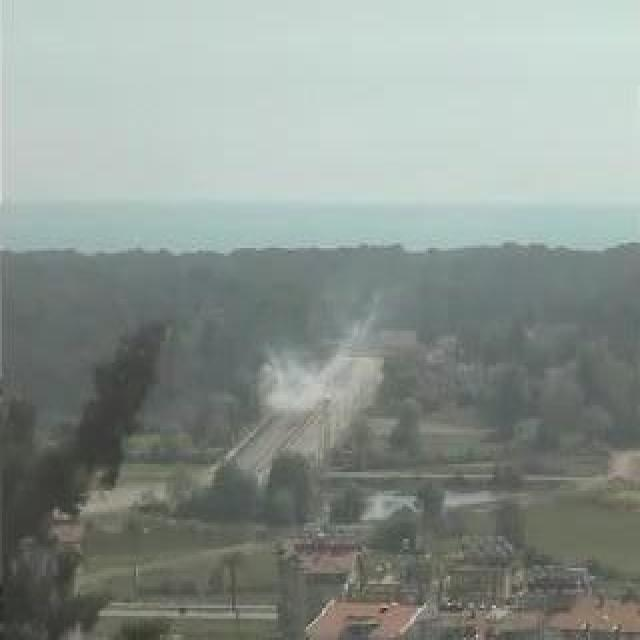Smoke: (255, 331, 355, 418)
